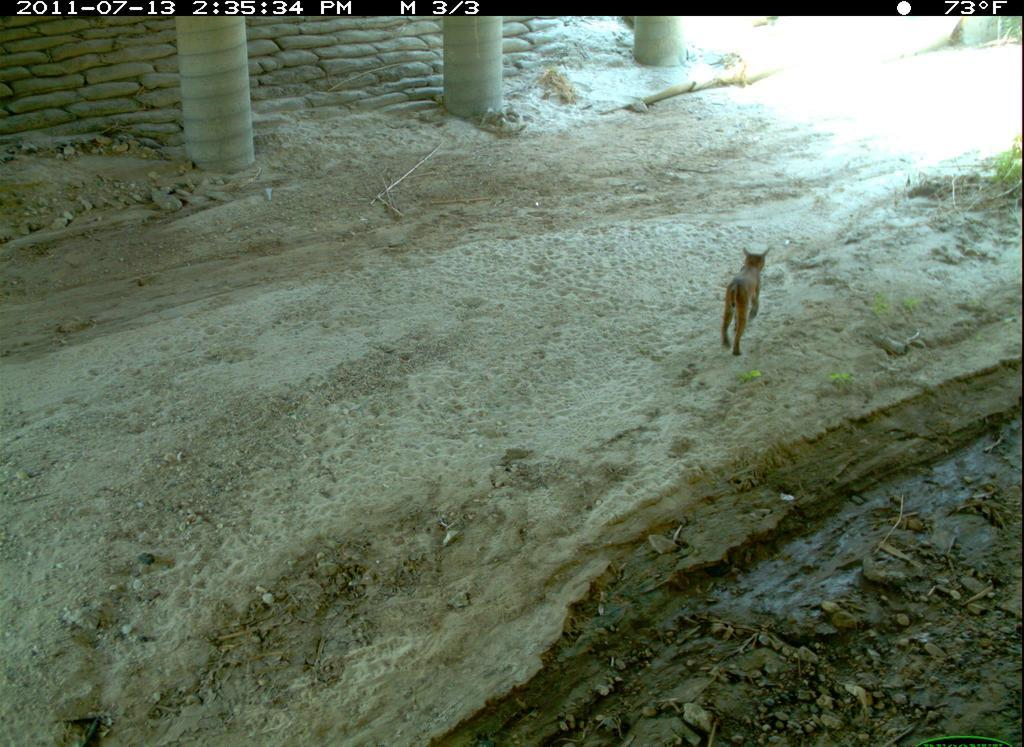bobcat: (716, 237, 783, 363)
